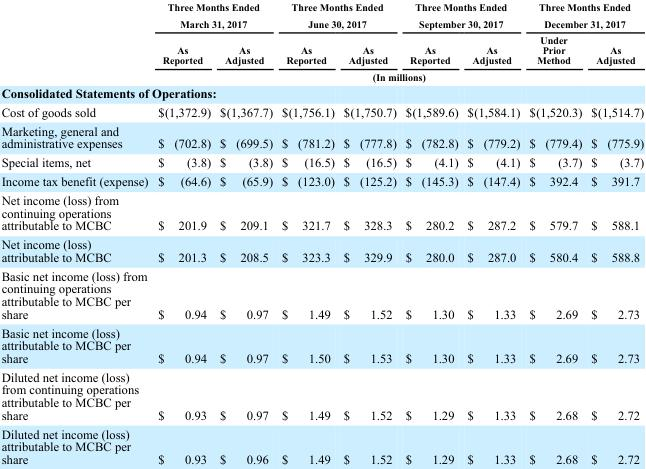table: (0, 1, 643, 465)
table column: (0, 1, 152, 465), (152, 1, 214, 465), (214, 1, 276, 465), (276, 1, 338, 465), (338, 1, 400, 465), (400, 1, 462, 465), (462, 1, 524, 465), (524, 1, 585, 465), (585, 1, 643, 465)
table column header: (0, 1, 643, 83)
table projected row header: (0, 83, 643, 101)
table row: (0, 266, 643, 322), (0, 367, 643, 423), (0, 322, 643, 367), (0, 190, 643, 234), (0, 423, 643, 465), (0, 31, 643, 68), (0, 120, 643, 152), (0, 234, 643, 266), (0, 1, 643, 31), (0, 101, 643, 120), (0, 152, 643, 171), (0, 171, 643, 190), (0, 83, 643, 101), (0, 68, 643, 83)
table spanning cell: (152, 68, 643, 83), (152, 1, 276, 31), (276, 1, 400, 31), (400, 1, 524, 31), (524, 1, 643, 31)
